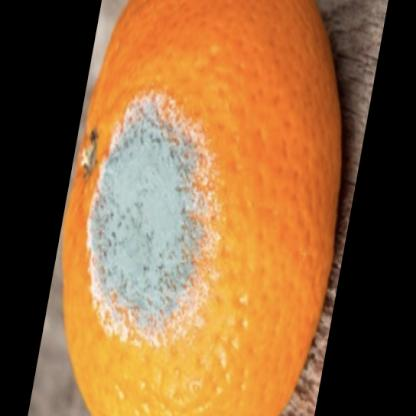rotten: (67, 2, 344, 416)
